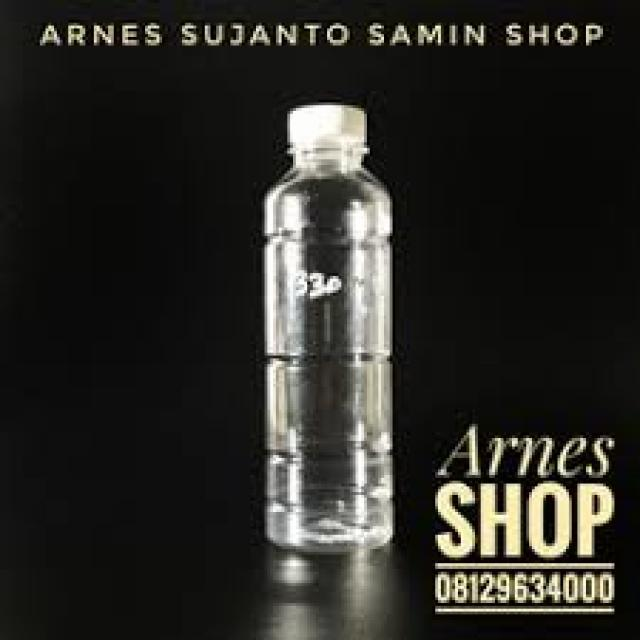good: (223, 93, 447, 568)
